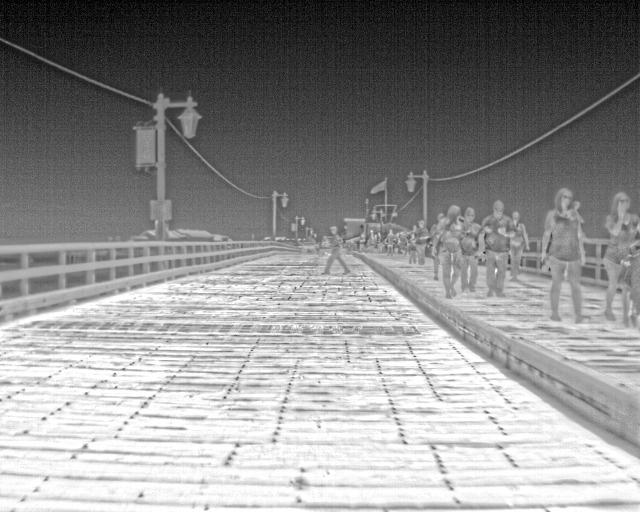bicycle: (298, 236, 320, 254)
empty: (540, 186, 586, 324), (601, 189, 639, 321), (476, 201, 516, 296), (502, 207, 532, 281), (436, 206, 458, 297), (456, 207, 480, 290), (321, 225, 351, 274), (415, 217, 431, 264), (381, 227, 397, 257), (405, 238, 417, 265), (365, 227, 377, 249), (355, 230, 367, 250)
